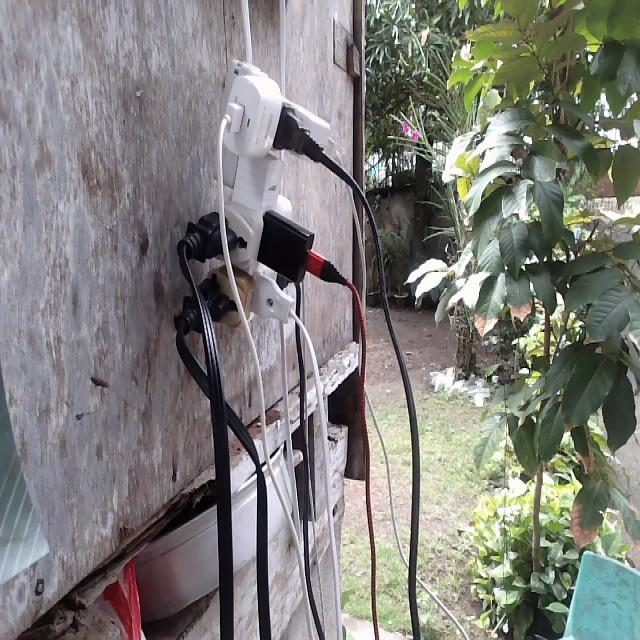-: (172, 59, 354, 336)
